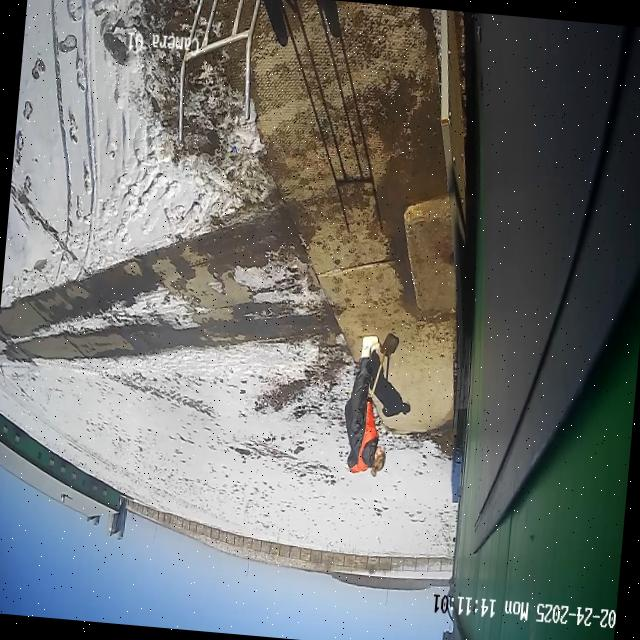Red uniform: (338, 331, 398, 479)
